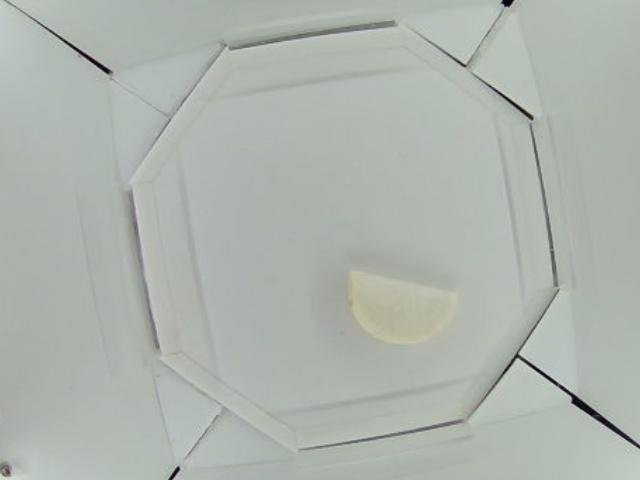Mooli: (348, 268, 457, 344)
